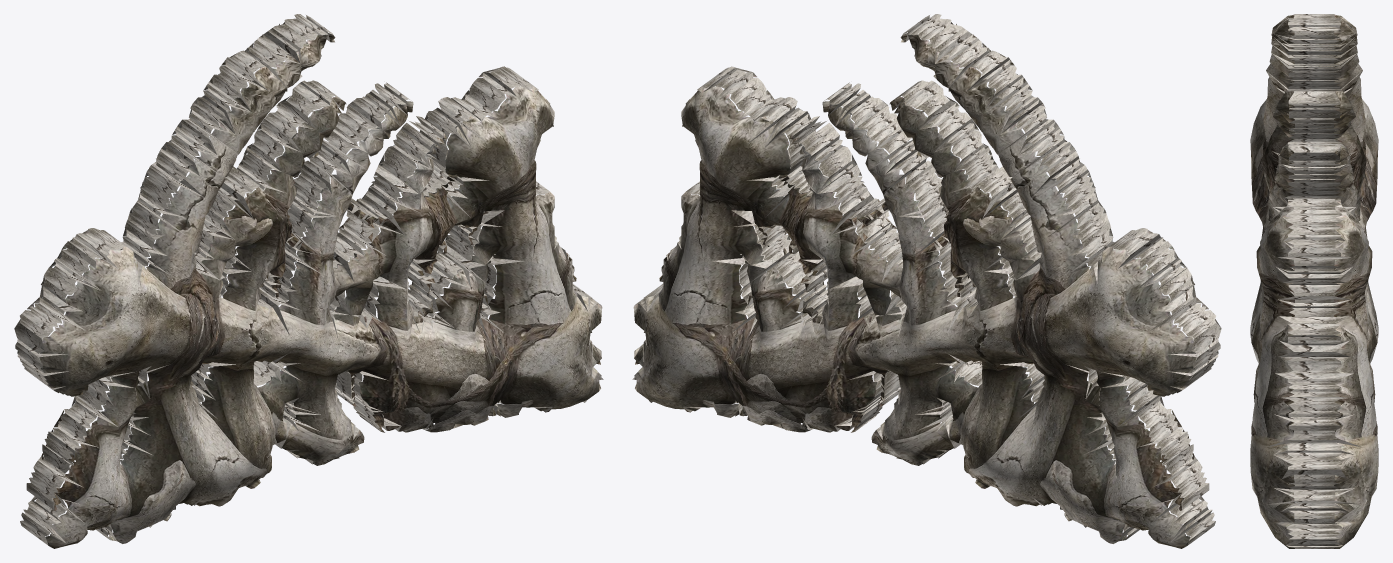
Rendered from Jotunheim_Bone_Barricade.glb.
3 views of the same model, side by side, from view 1: azimuth 30°, elevation 25°; view 2: azimuth 150°, elevation 25°; view 3: azimuth 270°, elevation 25° (orthographic). The views are drawn at different scales.
Parts seen in each view (by area): view 1: Jotunheim_Bone_Barricade; view 2: Jotunheim_Bone_Barricade; view 3: Jotunheim_Bone_Barricade.
Boxes of the visible parts, x1=… form: Jotunheim_Bone_Barricade: x1=14, y1=14, x2=603, y2=548; Jotunheim_Bone_Barricade: x1=632, y1=14, x2=1221, y2=548; Jotunheim_Bone_Barricade: x1=1250, y1=14, x2=1378, y2=548.
Bounding box in the file's own units: 0.9824 × 0.7676 × 0.2061.
1 material, 1 textured.
